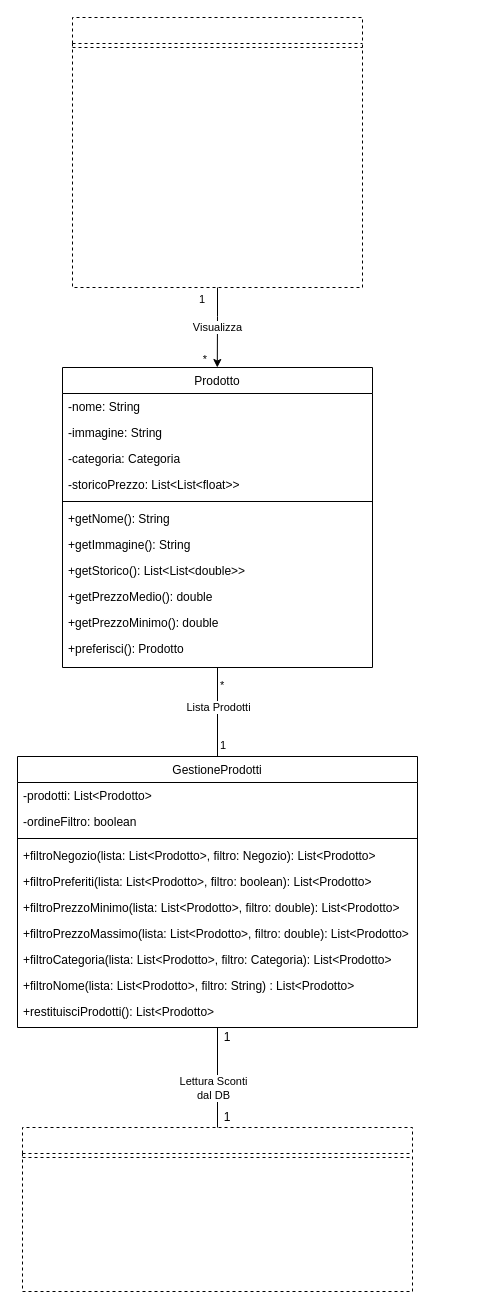
Image size: 485x1309. Some labels were removed from this diagram. Each missing label, with the centre of its shape:
"LetturaDBDati" belongs at point (217, 1209).
"Utente" belongs at point (217, 152).
